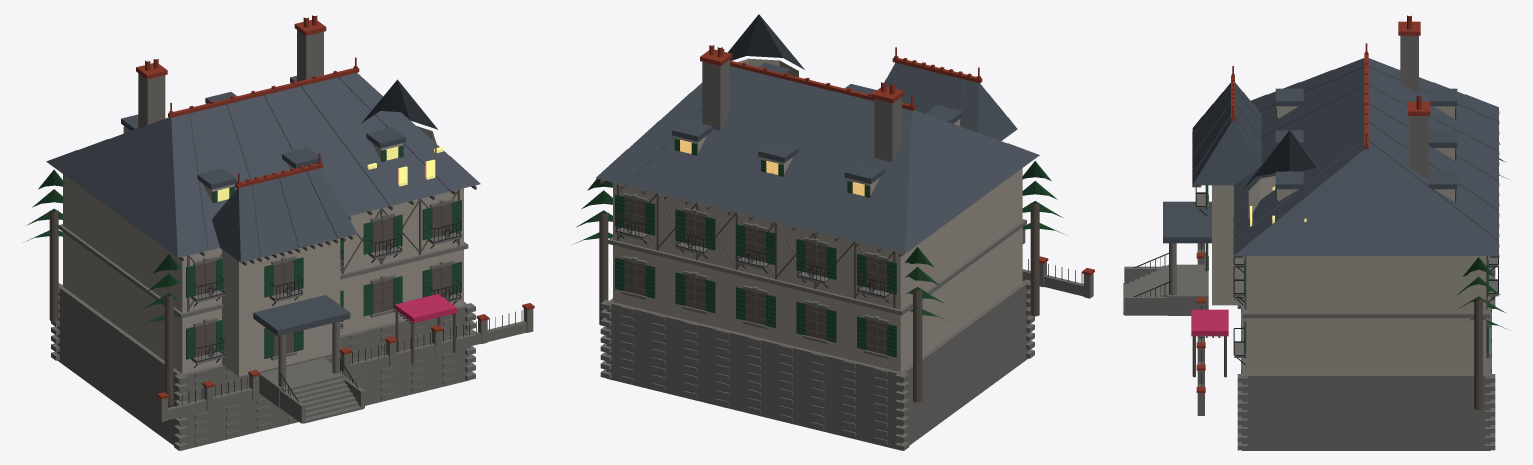
File: fv_pv_03_phan_vien_sinh_hoc_gene_conservation_villa.glb
The picture shows the model from 3 angles, left to right: view 1: azimuth 30°, elevation 25°; view 2: azimuth 150°, elevation 25°; view 3: azimuth 270°, elevation 25°; orthographic projection. The views are drawn at different scales.
Visible parts, largest first — view 1: marseille_corrugated_roof_tiles, granite_foundation_and_stairs, stucco_facade_and_dormers, colombage_timber_and_eaves, pine_green_louvered_shutters, ridge_cresting_and_chimneys, wrought_iron_balconies_3d, pine_trees_and_garden_hedges, bougainvillea_pergola_clusters, warm_night_windows_ffb86c; view 2: marseille_corrugated_roof_tiles, granite_foundation_and_stairs, stucco_facade_and_dormers, colombage_timber_and_eaves, pine_green_louvered_shutters, ridge_cresting_and_chimneys, pine_trees_and_garden_hedges, wrought_iron_balconies_3d; view 3: marseille_corrugated_roof_tiles, stucco_facade_and_dormers, granite_foundation_and_stairs, colombage_timber_and_eaves, ridge_cresting_and_chimneys, bougainvillea_pergola_clusters, wrought_iron_balconies_3d, pine_trees_and_garden_hedges, pine_green_louvered_shutters.
Boxes of the visible parts, <box> form: marseille_corrugated_roof_tiles: <box>46,72,480,336</box>; granite_foundation_and_stairs: <box>51,30,533,450</box>; stucco_facade_and_dormers: <box>63,126,463,376</box>; colombage_timber_and_eaves: <box>49,185,476,405</box>; pine_green_louvered_shutters: <box>123,127,461,359</box>; ridge_cresting_and_chimneys: <box>136,15,534,399</box>; wrought_iron_balconies_3d: <box>169,218,522,408</box>; pine_trees_and_garden_hedges: <box>23,169,181,325</box>; bougainvillea_pergola_clusters: <box>394,294,456,323</box>; warm_night_windows_ffb86c: <box>217,146,443,201</box>; marseille_corrugated_roof_tiles: <box>596,14,1039,253</box>; granite_foundation_and_stairs: <box>600,60,1093,450</box>; stucco_facade_and_dormers: <box>613,58,1022,372</box>; colombage_timber_and_eaves: <box>599,179,1039,402</box>; pine_green_louvered_shutters: <box>615,119,960,357</box>; ridge_cresting_and_chimneys: <box>700,45,1094,275</box>; pine_trees_and_garden_hedges: <box>573,161,1067,320</box>; wrought_iron_balconies_3d: <box>615,213,1082,303</box>; marseille_corrugated_roof_tiles: <box>1163,58,1498,255</box>; stucco_facade_and_dormers: <box>1212,106,1486,374</box>; granite_foundation_and_stairs: <box>1123,35,1498,450</box>; colombage_timber_and_eaves: <box>1192,111,1499,409</box>; ridge_cresting_and_chimneys: <box>1196,15,1430,392</box>; bougainvillea_pergola_clusters: <box>1191,309,1228,336</box>; wrought_iron_balconies_3d: <box>1133,187,1498,386</box>; pine_trees_and_garden_hedges: <box>1456,143,1510,330</box>; pine_green_louvered_shutters: <box>1205,106,1488,358</box>.
Size of the model in its own units: 25.1 by 20.23 by 22.74.
